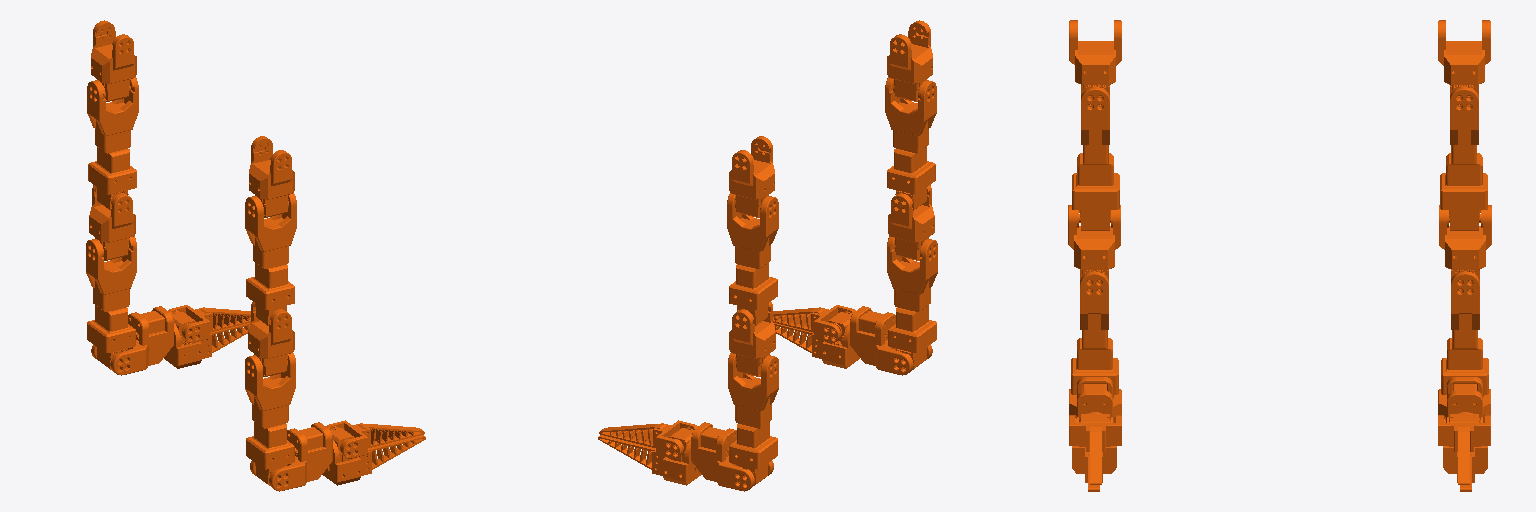
robot.urdf — arm_body_v2:
<?xml version="1.0" ?>
<!-- =================================================================================== -->
<!-- |    This document was autogenerated by xacro from arm_body_v2_core.xacro         | -->
<!-- |    EDITING THIS FILE BY HAND IS NOT RECOMMENDED                                 | -->
<!-- =================================================================================== -->
<robot name="arm_body_v2">
  <!-- Generated from Fusion design "Body + Arm v8". Units: metres, kilograms. -->
  <!-- Masses: printed parts PETG 15% infill (0.33 x 1.27 g/cm3), 2020 extrusions aluminium 6061,
       servos 74.5 g (STS3250). Inertias from Fusion geometry, rescaled to these materials. -->
  <!-- rad/s -->
  <material name="petg_orange">
    <color rgba="0.95 0.45 0.10 1"/>
  </material>
  <material name="aluminium">
    <color rgba="0.75 0.76 0.78 1"/>
  </material>
  <link name="world"/>
  <joint name="world_to_body" type="fixed">
    <parent link="world"/>
    <child link="body"/>
    <origin rpy="0 0 0" xyz="0 0 -0.229871"/>
  </joint>
  <link name="body">
    <inertial>
      <origin rpy="0 0 0" xyz="-0.065542 -0.065485 0.528216"/>
      <mass value="1.969296"/>
      <inertia ixx="6.9145e-02" ixy="-2.1153e-05" ixz="-3.7645e-03" iyy="6.2288e-02" iyz="-3.2409e-05" izz="3.1000e-02"/>
    </inertial>
    <visual>
      <origin rpy="0 0 0" xyz="0 0 0"/>
      <geometry>
        <mesh filename="package://arm_body_v2_description/meshes/body.stl" scale="0.001 0.001 0.001"/>
      </geometry>
      <material name="aluminium"/>
    </visual>
    <collision>
      <origin rpy="0 0 0" xyz="0 0 0"/>
      <geometry>
        <mesh filename="package://arm_body_v2_description/meshes/collision/body.stl" scale="0.001 0.001 0.001"/>
      </geometry>
    </collision>
  </link>
  <link name="l_link1">
    <inertial>
      <origin rpy="0 0 0" xyz="-0.000081 -0.017299 -0.045926"/>
      <mass value="0.096732"/>
      <inertia ixx="3.9581e-05" ixy="8.2644e-10" ixz="-4.7817e-07" iyy="4.0490e-05" iyz="4.1812e-08" izz="1.9835e-05"/>
    </inertial>
    <visual>
      <origin rpy="0 0 0" xyz="-0.0382 0.234279 -0.719471"/>
      <geometry>
        <mesh filename="package://arm_body_v2_description/meshes/l_link1.stl" scale="0.001 0.001 0.001"/>
      </geometry>
      <material name="petg_orange"/>
    </visual>
    <collision>
      <origin rpy="0 0 0" xyz="-0.0382 0.234279 -0.719471"/>
      <geometry>
        <mesh filename="package://arm_body_v2_description/meshes/collision/l_link1.stl" scale="0.001 0.001 0.001"/>
      </geometry>
    </collision>
  </link>
  <link name="l_link2">
    <inertial>
      <origin rpy="0 0 0" xyz="0.016458 -0.000128 -0.103893"/>
      <mass value="0.117687"/>
      <inertia ixx="2.1309e-04" ixy="-7.7217e-09" ixz="1.6375e-07" iyy="2.1412e-04" iyz="-5.5021e-07" izz="2.6510e-05"/>
    </inertial>
    <visual>
      <origin rpy="0 0 0" xyz="-0.0207 0.251579 -0.654271"/>
      <geometry>
        <mesh filename="package://arm_body_v2_description/meshes/l_link2.stl" scale="0.001 0.001 0.001"/>
      </geometry>
      <material name="petg_orange"/>
    </visual>
    <collision>
      <origin rpy="0 0 0" xyz="-0.0207 0.251579 -0.654271"/>
      <geometry>
        <mesh filename="package://arm_body_v2_description/meshes/collision/l_link2.stl" scale="0.001 0.001 0.001"/>
      </geometry>
    </collision>
  </link>
  <link name="l_link3">
    <inertial>
      <origin rpy="0 0 0" xyz="-0.000466 0.016619 -0.045924"/>
      <mass value="0.096732"/>
      <inertia ixx="3.9452e-05" ixy="-2.8700e-09" ixz="-7.1137e-07" iyy="4.0408e-05" iyz="-3.1641e-11" izz="1.9824e-05"/>
    </inertial>
    <visual>
      <origin rpy="0 0 0" xyz="-0.03715 0.2691 -0.513071"/>
      <geometry>
        <mesh filename="package://arm_body_v2_description/meshes/l_link3.stl" scale="0.001 0.001 0.001"/>
      </geometry>
      <material name="petg_orange"/>
    </visual>
    <collision>
      <origin rpy="0 0 0" xyz="-0.03715 0.2691 -0.513071"/>
      <geometry>
        <mesh filename="package://arm_body_v2_description/meshes/collision/l_link3.stl" scale="0.001 0.001 0.001"/>
      </geometry>
    </collision>
  </link>
  <link name="l_link4">
    <inertial>
      <origin rpy="0 0 0" xyz="-0.016661 0.00042 -0.103842"/>
      <mass value="0.117687"/>
      <inertia ixx="2.1318e-04" ixy="-2.8284e-08" ixz="2.9890e-06" iyy="2.1426e-04" iyz="1.2039e-06" izz="2.6576e-05"/>
    </inertial>
    <visual>
      <origin rpy="0 0 0" xyz="-0.05325 0.252475 -0.447872"/>
      <geometry>
        <mesh filename="package://arm_body_v2_description/meshes/l_link4.stl" scale="0.001 0.001 0.001"/>
      </geometry>
      <material name="petg_orange"/>
    </visual>
    <collision>
      <origin rpy="0 0 0" xyz="-0.05325 0.252475 -0.447872"/>
      <geometry>
        <mesh filename="package://arm_body_v2_description/meshes/collision/l_link4.stl" scale="0.001 0.001 0.001"/>
      </geometry>
    </collision>
  </link>
  <link name="l_link5">
    <inertial>
      <origin rpy="0 0 0" xyz="0.048189 -0.017124 0.015363"/>
      <mass value="0.098560"/>
      <inertia ixx="3.0343e-05" ixy="2.2154e-07" ixz="-6.9574e-06" iyy="4.4400e-05" iyz="6.0241e-08" izz="3.5331e-05"/>
    </inertial>
    <visual>
      <origin rpy="0 0 0" xyz="-0.03715 0.235 -0.306724"/>
      <geometry>
        <mesh filename="package://arm_body_v2_description/meshes/l_link5.stl" scale="0.001 0.001 0.001"/>
      </geometry>
      <material name="petg_orange"/>
    </visual>
    <collision>
      <origin rpy="0 0 0" xyz="-0.03715 0.235 -0.306724"/>
      <geometry>
        <mesh filename="package://arm_body_v2_description/meshes/collision/l_link5.stl" scale="0.001 0.001 0.001"/>
      </geometry>
    </collision>
  </link>
  <link name="l_link6">
    <inertial>
      <origin rpy="0 0 0" xyz="0.026941 0.000093 -0.003054"/>
      <mass value="0.093425"/>
      <inertia ixx="2.8329e-05" ixy="2.3020e-07" ixz="2.9458e-06" iyy="3.9335e-05" iyz="-2.2407e-07" izz="2.9675e-05"/>
    </inertial>
    <visual>
      <origin rpy="0 0 0" xyz="-0.1072 0.252199 -0.311674"/>
      <geometry>
        <mesh filename="package://arm_body_v2_description/meshes/l_link6.stl" scale="0.001 0.001 0.001"/>
      </geometry>
      <material name="petg_orange"/>
    </visual>
    <collision>
      <origin rpy="0 0 0" xyz="-0.1072 0.252199 -0.311674"/>
      <geometry>
        <mesh filename="package://arm_body_v2_description/meshes/collision/l_link6.stl" scale="0.001 0.001 0.001"/>
      </geometry>
    </collision>
  </link>
  <link name="l_finger">
    <inertial>
      <origin rpy="0 0 0" xyz="0.028467 0.017653 -0.001186"/>
      <mass value="0.010447"/>
      <inertia ixx="2.9184e-06" ixy="-1.4031e-08" ixz="6.8506e-07" iyy="7.3735e-06" iyz="2.0008e-09" izz="9.1900e-06"/>
    </inertial>
    <visual>
      <origin rpy="0 0 0" xyz="-0.131925 0.269099 -0.324674"/>
      <geometry>
        <mesh filename="package://arm_body_v2_description/meshes/l_finger.stl" scale="0.001 0.001 0.001"/>
      </geometry>
      <material name="petg_orange"/>
    </visual>
    <collision>
      <origin rpy="0 0 0" xyz="-0.131925 0.269099 -0.324674"/>
      <geometry>
        <mesh filename="package://arm_body_v2_description/meshes/collision/l_finger.stl" scale="0.001 0.001 0.001"/>
      </geometry>
    </collision>
  </link>
  <link name="r_link1">
    <inertial>
      <origin rpy="0 0 0" xyz="-0.00008 0.0173 -0.045923"/>
      <mass value="0.096732"/>
      <inertia ixx="3.9367e-05" ixy="1.2795e-09" ixz="-4.6651e-07" iyy="4.0283e-05" iyz="-4.5634e-09" izz="1.9828e-05"/>
    </inertial>
    <visual>
      <origin rpy="0 0 0" xyz="-0.0382 -0.103821 -0.719471"/>
      <geometry>
        <mesh filename="package://arm_body_v2_description/meshes/r_link1.stl" scale="0.001 0.001 0.001"/>
      </geometry>
      <material name="petg_orange"/>
    </visual>
    <collision>
      <origin rpy="0 0 0" xyz="-0.0382 -0.103821 -0.719471"/>
      <geometry>
        <mesh filename="package://arm_body_v2_description/meshes/collision/r_link1.stl" scale="0.001 0.001 0.001"/>
      </geometry>
    </collision>
  </link>
  <link name="r_link2">
    <inertial>
      <origin rpy="0 0 0" xyz="0.016458 0.000128 -0.103893"/>
      <mass value="0.117687"/>
      <inertia ixx="2.1311e-04" ixy="5.5031e-09" ixz="1.6373e-07" iyy="2.1412e-04" iyz="5.1736e-07" izz="2.6533e-05"/>
    </inertial>
    <visual>
      <origin rpy="0 0 0" xyz="-0.0207 -0.12112 -0.654271"/>
      <geometry>
        <mesh filename="package://arm_body_v2_description/meshes/r_link2.stl" scale="0.001 0.001 0.001"/>
      </geometry>
      <material name="petg_orange"/>
    </visual>
    <collision>
      <origin rpy="0 0 0" xyz="-0.0207 -0.12112 -0.654271"/>
      <geometry>
        <mesh filename="package://arm_body_v2_description/meshes/collision/r_link2.stl" scale="0.001 0.001 0.001"/>
      </geometry>
    </collision>
  </link>
  <link name="r_link3">
    <inertial>
      <origin rpy="0 0 0" xyz="-0.000466 0.01748 -0.045924"/>
      <mass value="0.096732"/>
      <inertia ixx="3.9474e-05" ixy="6.8019e-10" ixz="-7.1137e-07" iyy="4.0408e-05" iyz="-2.7854e-08" izz="1.9847e-05"/>
    </inertial>
    <visual>
      <origin rpy="0 0 0" xyz="-0.03715 -0.104542 -0.513071"/>
      <geometry>
        <mesh filename="package://arm_body_v2_description/meshes/r_link3.stl" scale="0.001 0.001 0.001"/>
      </geometry>
      <material name="petg_orange"/>
    </visual>
    <collision>
      <origin rpy="0 0 0" xyz="-0.03715 -0.104542 -0.513071"/>
      <geometry>
        <mesh filename="package://arm_body_v2_description/meshes/collision/r_link3.stl" scale="0.001 0.001 0.001"/>
      </geometry>
    </collision>
  </link>
  <link name="r_link4">
    <inertial>
      <origin rpy="0 0 0" xyz="-0.016661 -0.00042 -0.103842"/>
      <mass value="0.117687"/>
      <inertia ixx="2.1320e-04" ixy="2.6099e-08" ixz="2.9890e-06" iyy="2.1426e-04" iyz="-1.2244e-06" izz="2.6598e-05"/>
    </inertial>
    <visual>
      <origin rpy="0 0 0" xyz="-0.05325 -0.122016 -0.447872"/>
      <geometry>
        <mesh filename="package://arm_body_v2_description/meshes/r_link4.stl" scale="0.001 0.001 0.001"/>
      </geometry>
      <material name="petg_orange"/>
    </visual>
    <collision>
      <origin rpy="0 0 0" xyz="-0.05325 -0.122016 -0.447872"/>
      <geometry>
        <mesh filename="package://arm_body_v2_description/meshes/collision/r_link4.stl" scale="0.001 0.001 0.001"/>
      </geometry>
    </collision>
  </link>
  <link name="r_link5">
    <inertial>
      <origin rpy="0 0 0" xyz="0.048189 0.017123 0.015363"/>
      <mass value="0.098560"/>
      <inertia ixx="3.0366e-05" ixy="-2.2652e-07" ixz="-6.9576e-06" iyy="4.4400e-05" iyz="-7.9431e-08" izz="3.5354e-05"/>
    </inertial>
    <visual>
      <origin rpy="0 0 0" xyz="-0.03715 -0.104542 -0.306724"/>
      <geometry>
        <mesh filename="package://arm_body_v2_description/meshes/r_link5.stl" scale="0.001 0.001 0.001"/>
      </geometry>
      <material name="petg_orange"/>
    </visual>
    <collision>
      <origin rpy="0 0 0" xyz="-0.03715 -0.104542 -0.306724"/>
      <geometry>
        <mesh filename="package://arm_body_v2_description/meshes/collision/r_link5.stl" scale="0.001 0.001 0.001"/>
      </geometry>
    </collision>
  </link>
  <link name="r_link6">
    <inertial>
      <origin rpy="0 0 0" xyz="0.026941 -0.000093 -0.003054"/>
      <mass value="0.093425"/>
      <inertia ixx="2.8352e-05" ixy="-2.3820e-07" ixz="2.9458e-06" iyy="3.9335e-05" iyz="2.0565e-07" izz="2.9697e-05"/>
    </inertial>
    <visual>
      <origin rpy="0 0 0" xyz="-0.1072 -0.12174 -0.311674"/>
      <geometry>
        <mesh filename="package://arm_body_v2_description/meshes/r_link6.stl" scale="0.001 0.001 0.001"/>
      </geometry>
      <material name="petg_orange"/>
    </visual>
    <collision>
      <origin rpy="0 0 0" xyz="-0.1072 -0.12174 -0.311674"/>
      <geometry>
        <mesh filename="package://arm_body_v2_description/meshes/collision/r_link6.stl" scale="0.001 0.001 0.001"/>
      </geometry>
    </collision>
  </link>
  <link name="r_finger">
    <inertial>
      <origin rpy="0 0 0" xyz="0.028467 -0.017653 -0.001186"/>
      <mass value="0.010447"/>
      <inertia ixx="2.9184e-06" ixy="1.4030e-08" ixz="6.8506e-07" iyy="7.3735e-06" iyz="-2.0012e-09" izz="9.1900e-06"/>
    </inertial>
    <visual>
      <origin rpy="0 0 0" xyz="-0.131925 -0.13864 -0.324674"/>
      <geometry>
        <mesh filename="package://arm_body_v2_description/meshes/r_finger.stl" scale="0.001 0.001 0.001"/>
      </geometry>
      <material name="petg_orange"/>
    </visual>
    <collision>
      <origin rpy="0 0 0" xyz="-0.131925 -0.13864 -0.324674"/>
      <geometry>
        <mesh filename="package://arm_body_v2_description/meshes/collision/r_finger.stl" scale="0.001 0.001 0.001"/>
      </geometry>
    </collision>
  </link>
  <joint name="l_joint1" type="revolute">
    <parent link="body"/>
    <child link="l_link1"/>
    <origin rpy="0 0 0" xyz="0.0382 -0.234279 0.719471"/>
    <axis xyz="0 1 0"/>
    <limit effort="4.9" lower="-3.1416" upper="3.1416" velocity="7.85"/>
    <dynamics damping="0.1" friction="0.05"/>
  </joint>
  <joint name="l_joint2" type="revolute">
    <parent link="l_link1"/>
    <child link="l_link2"/>
    <origin rpy="0 0 0" xyz="-0.0175 -0.0173 -0.0652"/>
    <axis xyz="1 0 0"/>
    <limit effort="4.9" lower="-3.1416" upper="3.1416" velocity="7.85"/>
    <dynamics damping="0.1" friction="0.05"/>
  </joint>
  <joint name="l_joint3" type="revolute">
    <parent link="l_link2"/>
    <child link="l_link3"/>
    <origin rpy="0 0 0" xyz="0.01645 -0.017521 -0.1412"/>
    <axis xyz="0 1 0"/>
    <limit effort="4.9" lower="-3.1416" upper="3.1416" velocity="7.85"/>
    <dynamics damping="0.1" friction="0.05"/>
  </joint>
  <joint name="l_joint4" type="revolute">
    <parent link="l_link3"/>
    <child link="l_link4"/>
    <origin rpy="0 0 0" xyz="0.0161 0.016625 -0.0652"/>
    <axis xyz="1 0 0"/>
    <limit effort="4.9" lower="-3.1416" upper="3.1416" velocity="7.85"/>
    <dynamics damping="0.1" friction="0.05"/>
  </joint>
  <joint name="l_joint5" type="revolute">
    <parent link="l_link4"/>
    <child link="l_link5"/>
    <origin rpy="0 0 0" xyz="-0.0161 0.017475 -0.141147"/>
    <axis xyz="0 1 0"/>
    <limit effort="4.9" lower="-3.1416" upper="3.1416" velocity="7.85"/>
    <dynamics damping="0.1" friction="0.05"/>
  </joint>
  <joint name="l_joint6" type="revolute">
    <parent link="l_link5"/>
    <child link="l_link6"/>
    <origin rpy="0 0 0" xyz="0.07005 -0.017198 0.00495"/>
    <axis xyz="1 0 0"/>
    <limit effort="4.9" lower="-3.1416" upper="3.1416" velocity="7.85"/>
    <dynamics damping="0.1" friction="0.05"/>
  </joint>
  <joint name="l_joint7" type="revolute">
    <parent link="l_link6"/>
    <child link="l_finger"/>
    <origin rpy="0 0 0" xyz="0.024725 -0.0169 0.013"/>
    <axis xyz="0 1 0"/>
    <limit effort="4.9" lower="-3.1416" upper="3.1416" velocity="7.85"/>
    <dynamics damping="0.1" friction="0.05"/>
  </joint>
  <joint name="r_joint1" type="revolute">
    <parent link="body"/>
    <child link="r_link1"/>
    <origin rpy="0 0 0" xyz="0.0382 0.103821 0.719471"/>
    <axis xyz="0 1 0"/>
    <limit effort="4.9" lower="-3.1416" upper="3.1416" velocity="7.85"/>
    <dynamics damping="0.1" friction="0.05"/>
  </joint>
  <joint name="r_joint2" type="revolute">
    <parent link="r_link1"/>
    <child link="r_link2"/>
    <origin rpy="0 0 0" xyz="-0.0175 0.0173 -0.0652"/>
    <axis xyz="-1 0 0"/>
    <limit effort="4.9" lower="-3.1416" upper="3.1416" velocity="7.85"/>
    <dynamics damping="0.1" friction="0.05"/>
  </joint>
  <joint name="r_joint3" type="revolute">
    <parent link="r_link2"/>
    <child link="r_link3"/>
    <origin rpy="0 0 0" xyz="0.01645 -0.016579 -0.1412"/>
    <axis xyz="0 1 0"/>
    <limit effort="4.9" lower="-3.1416" upper="3.1416" velocity="7.85"/>
    <dynamics damping="0.1" friction="0.05"/>
  </joint>
  <joint name="r_joint4" type="revolute">
    <parent link="r_link3"/>
    <child link="r_link4"/>
    <origin rpy="0 0 0" xyz="0.0161 0.017475 -0.0652"/>
    <axis xyz="-1 0 0"/>
    <limit effort="4.9" lower="-3.1416" upper="3.1416" velocity="7.85"/>
    <dynamics damping="0.1" friction="0.05"/>
  </joint>
  <joint name="r_joint5" type="revolute">
    <parent link="r_link4"/>
    <child link="r_link5"/>
    <origin rpy="0 0 0" xyz="-0.0161 -0.017475 -0.141147"/>
    <axis xyz="0 1 0"/>
    <limit effort="4.9" lower="-3.1416" upper="3.1416" velocity="7.85"/>
    <dynamics damping="0.1" friction="0.05"/>
  </joint>
  <joint name="r_joint6" type="revolute">
    <parent link="r_link5"/>
    <child link="r_link6"/>
    <origin rpy="0 0 0" xyz="0.07005 0.017198 0.00495"/>
    <axis xyz="-1 0 0"/>
    <limit effort="4.9" lower="-3.1416" upper="3.1416" velocity="7.85"/>
    <dynamics damping="0.1" friction="0.05"/>
  </joint>
  <joint name="r_joint7" type="revolute">
    <parent link="r_link6"/>
    <child link="r_finger"/>
    <origin rpy="0 0 0" xyz="0.024725 0.0169 0.013"/>
    <axis xyz="0 1 0"/>
    <limit effort="4.9" lower="-3.1416" upper="3.1416" velocity="7.85"/>
    <dynamics damping="0.1" friction="0.05"/>
  </joint>
</robot>

--- Facts derived from the render (not from the file) ---
3 views of the same robot in one strip: view 1: azimuth 30°, elevation 25°; view 2: azimuth 150°, elevation 25°; view 3: azimuth 270°, elevation 25° (orthographic).
Model arm_body_v2 with 16 links and 15 joints (14 revolute, 1 fixed), rooted at world, posed every joint at zero.
Visible links, largest first — view 1: l_link2, r_link2, r_link4, l_link4, r_link1, l_link1, r_link5, l_link5, r_link3, l_link3, l_link6, r_link6 (+2 smaller); view 2: r_link2, l_link2, l_link4, r_link4, l_link1, r_link1, l_link5, r_link5, l_link3, r_link3, r_link6, l_link6 (+2 smaller); view 3: l_link2, r_link2, l_link4, r_link4, l_link1, r_link1, l_link3, r_link3, l_finger, r_finger, l_link5, r_link5 (+2 smaller).
Boxes of the visible links, x1,y1,x2,y2 form: l_link2: [245, 193, 296, 325]; r_link2: [87, 77, 138, 210]; r_link4: [86, 236, 136, 369]; l_link4: [245, 353, 295, 485]; r_link1: [91, 20, 136, 101]; l_link1: [249, 136, 294, 217]; r_link5: [91, 306, 173, 375]; l_link5: [250, 422, 332, 491]; r_link3: [89, 185, 135, 260]; l_link3: [248, 302, 294, 376]; l_link6: [322, 428, 425, 485]; r_link6: [164, 312, 249, 368]; r_link2: [727, 193, 778, 325]; l_link2: [885, 77, 936, 210]; l_link4: [887, 236, 937, 369]; r_link4: [728, 353, 778, 485]; l_link1: [887, 20, 932, 101]; r_link1: [729, 136, 774, 217]; l_link5: [850, 306, 932, 375]; r_link5: [691, 422, 773, 491]; l_link3: [888, 185, 934, 260]; r_link3: [729, 302, 775, 376]; r_link6: [598, 428, 701, 485]; l_link6: [774, 312, 859, 368]; l_link2: [1072, 85, 1119, 230]; r_link2: [1440, 85, 1487, 230]; l_link4: [1071, 270, 1118, 394]; r_link4: [1441, 270, 1488, 394]; l_link1: [1069, 20, 1121, 104]; r_link1: [1438, 20, 1490, 104]; l_link3: [1068, 205, 1120, 289]; r_link3: [1439, 205, 1491, 289]; l_finger: [1069, 415, 1121, 484]; r_finger: [1438, 415, 1490, 484]; l_link5: [1069, 377, 1121, 422]; r_link5: [1438, 377, 1490, 422].
Bounding box of the posed robot: 0.2354 × 0.4282 × 0.4535 m (x, y, z).
14 mesh visuals loaded from 15 distinct referenced files (14 binary STL); not drawn: 1 (reference not matched to a file when rendering).
